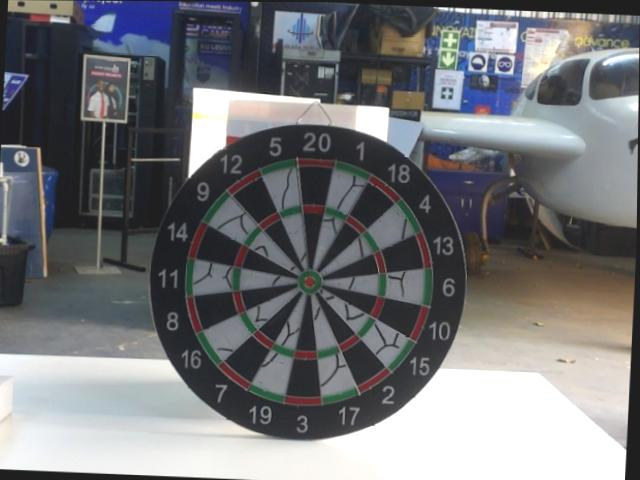single_17: (318, 359, 349, 390), (197, 295, 232, 321)
single_3: (293, 361, 316, 396), (298, 300, 315, 347)
